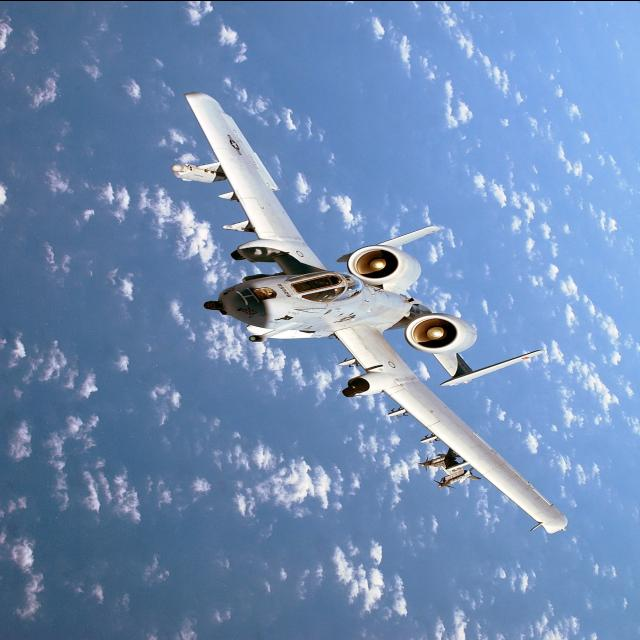A10: (151, 66, 603, 562)
